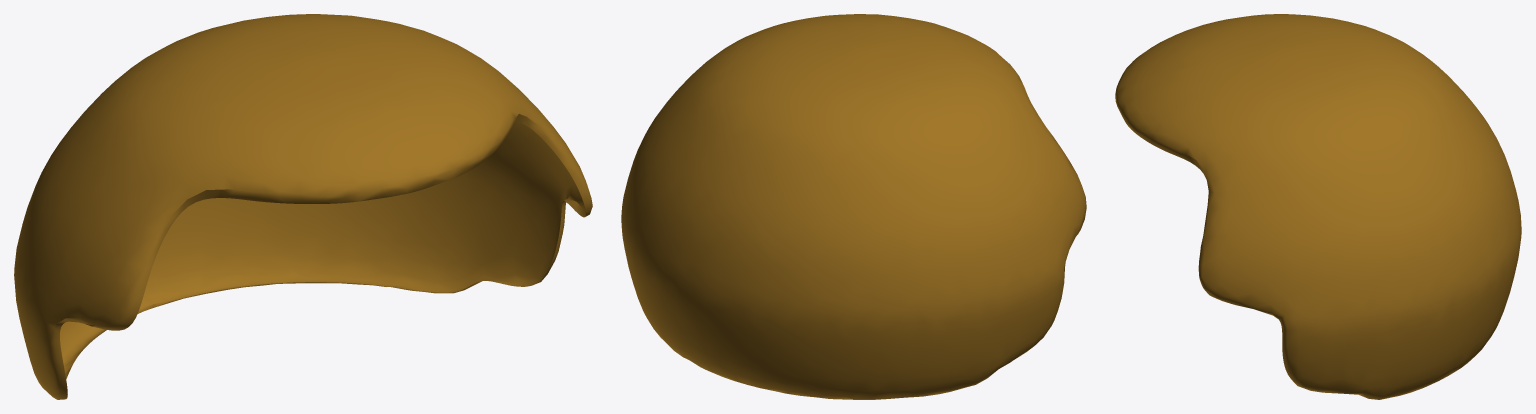
The model's file is low cut hair.fbx.
3 renders of one model, left to right at view 1: azimuth 30°, elevation 25°; view 2: azimuth 150°, elevation 25°; view 3: azimuth 270°, elevation 25°, orthographic. The views are drawn at different scales.
Visible parts, largest first — view 1: low_cut; view 2: low_cut; view 3: low_cut.
Boxes of the visible parts, box(x1,y1,x2,y2) form: low_cut: box(14, 14, 592, 399); low_cut: box(621, 14, 1086, 399); low_cut: box(1115, 14, 1521, 399).
Bounding box in the file's own units: 30.37 × 18.63 × 25.06.
